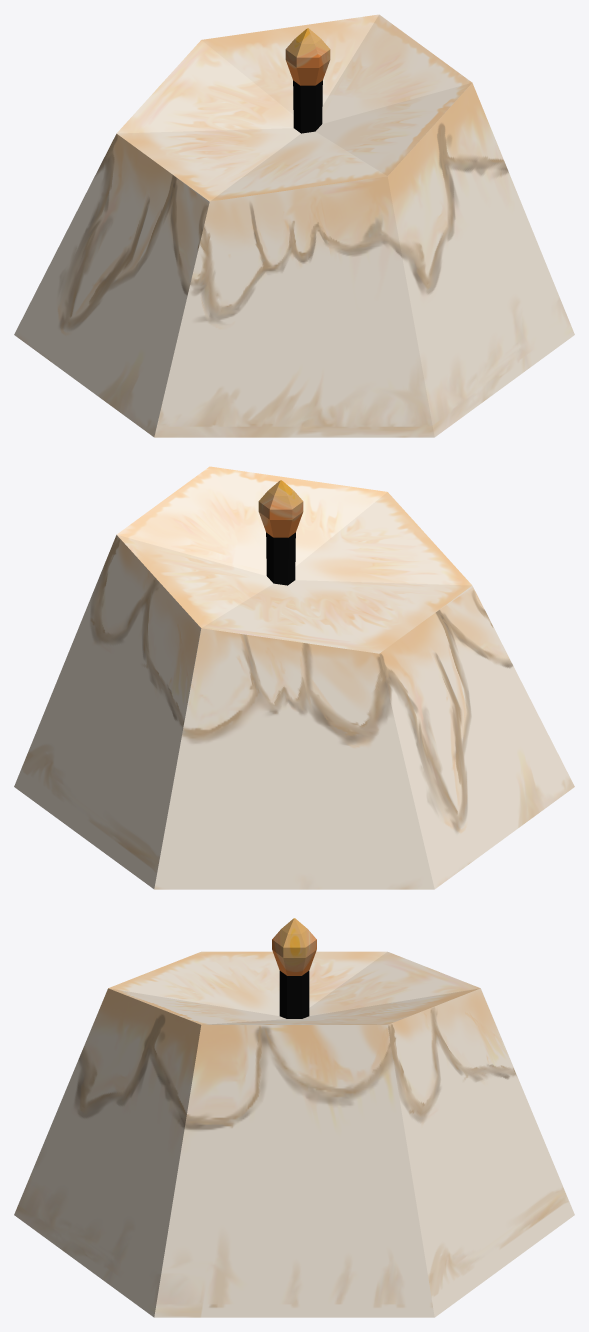
File: Candle3.fbx
The picture shows the model from 3 angles, top to bottom: view 1: azimuth 30°, elevation 25°; view 2: azimuth 150°, elevation 25°; view 3: azimuth 270°, elevation 25°; orthographic projection.
Parts seen in each view (by area): view 1: Cylinder.004; view 2: Cylinder.004; view 3: Cylinder.004.
Boxes of the visible parts, x1=… form: Cylinder.004: x1=14, y1=14, x2=574, y2=437; Cylinder.004: x1=14, y1=466, x2=574, y2=889; Cylinder.004: x1=14, y1=918, x2=574, y2=1317.
Size of the model in its own units: 213 by 147 by 246.
